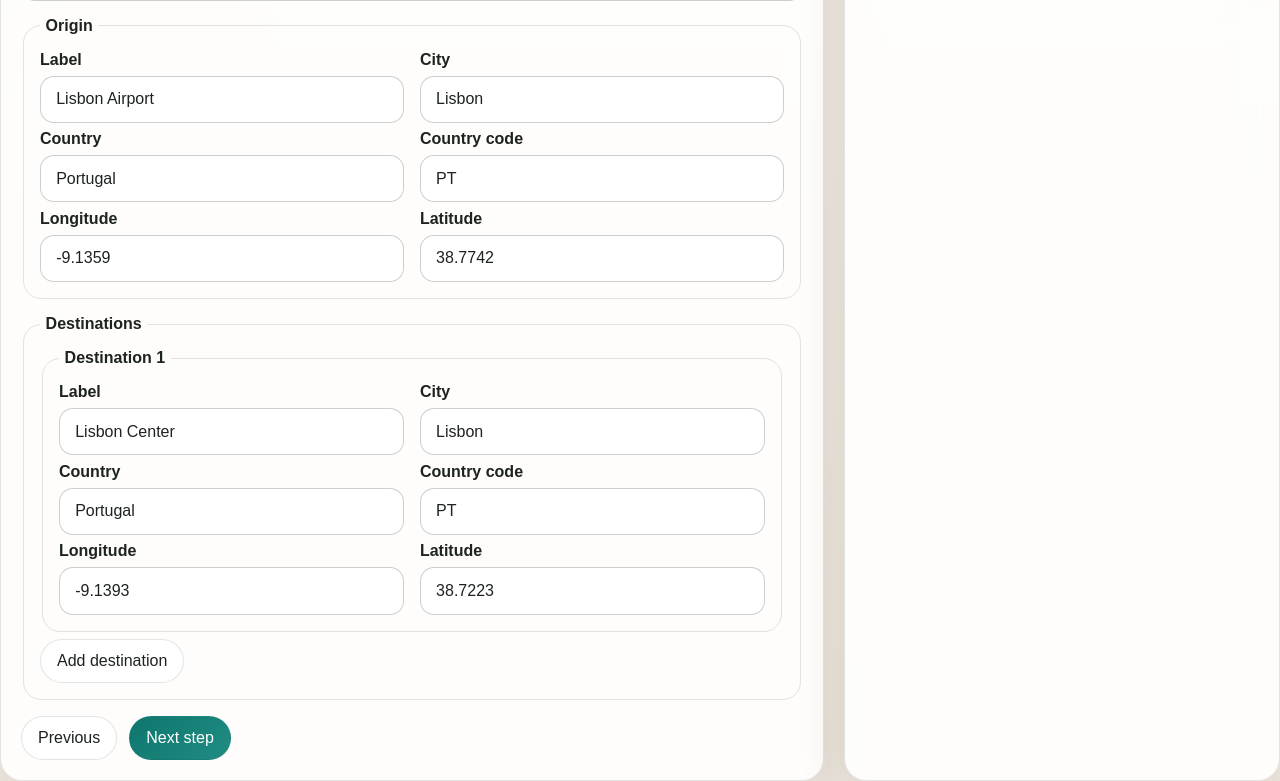
Test: PlanTripPage wizard – step navigation › advances to step 2 (When & Budget) after clicking Next on step 1
The image size is (1280, 781).
(page scrolled)
Step 0 → 1: click 'Next step' (defaults are pre-filled so validation passes)
Step 1. Click the button "Next step" → click(180, 738), box [129, 716, 231, 760]
(page scrolled)
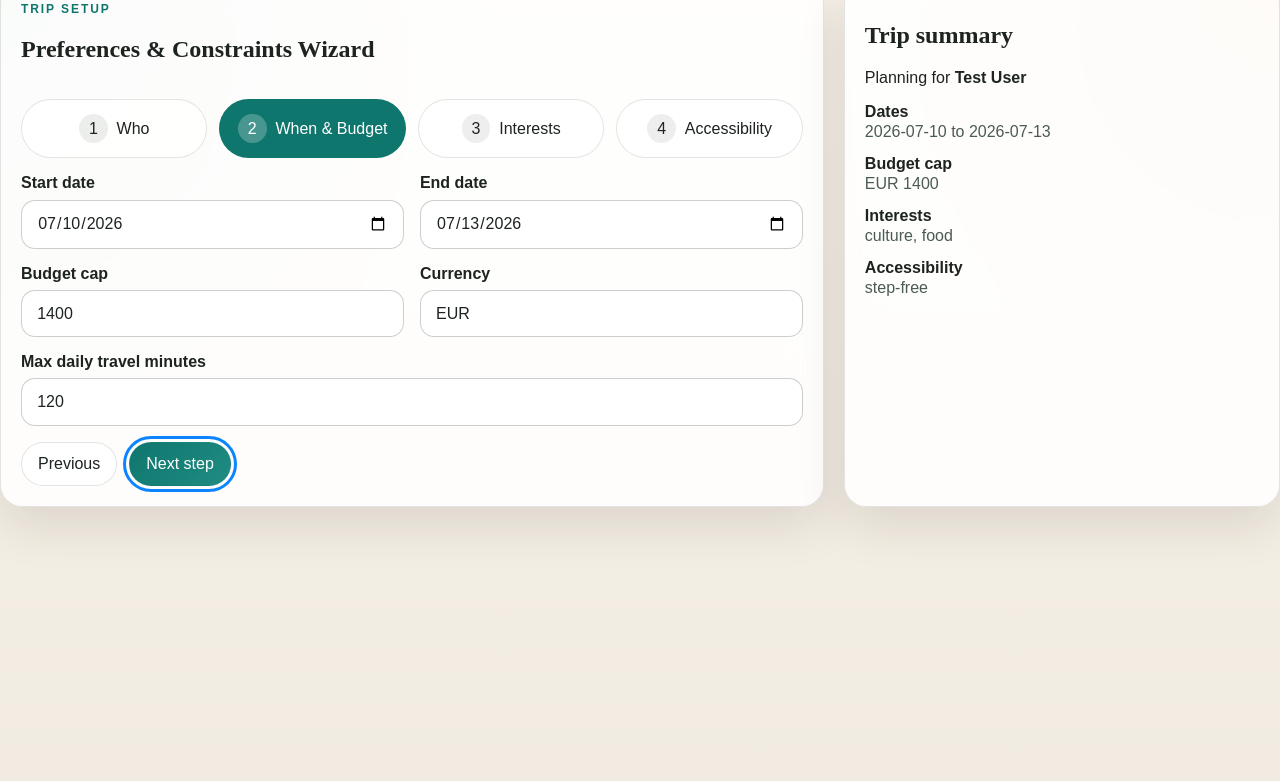
Expected: the date field labelled "Start date" is shown, [21, 200, 404, 249]
